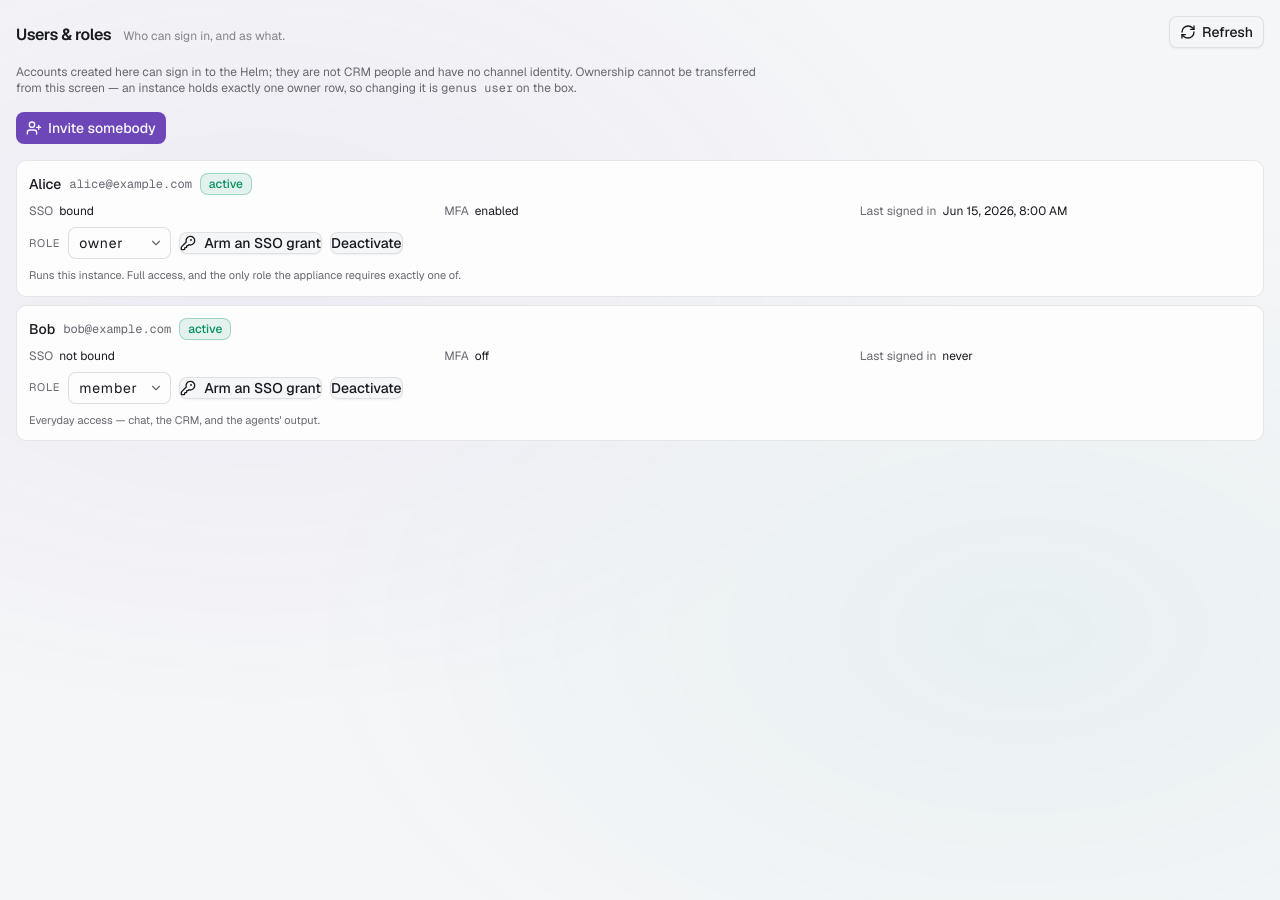
Test: UsersPage › does not default to SSO on an instance without an identity provider
Step 1. Click the button with test id "users-invite-open" → {"x": 91, "y": 128}, box [16, 112, 166, 144]
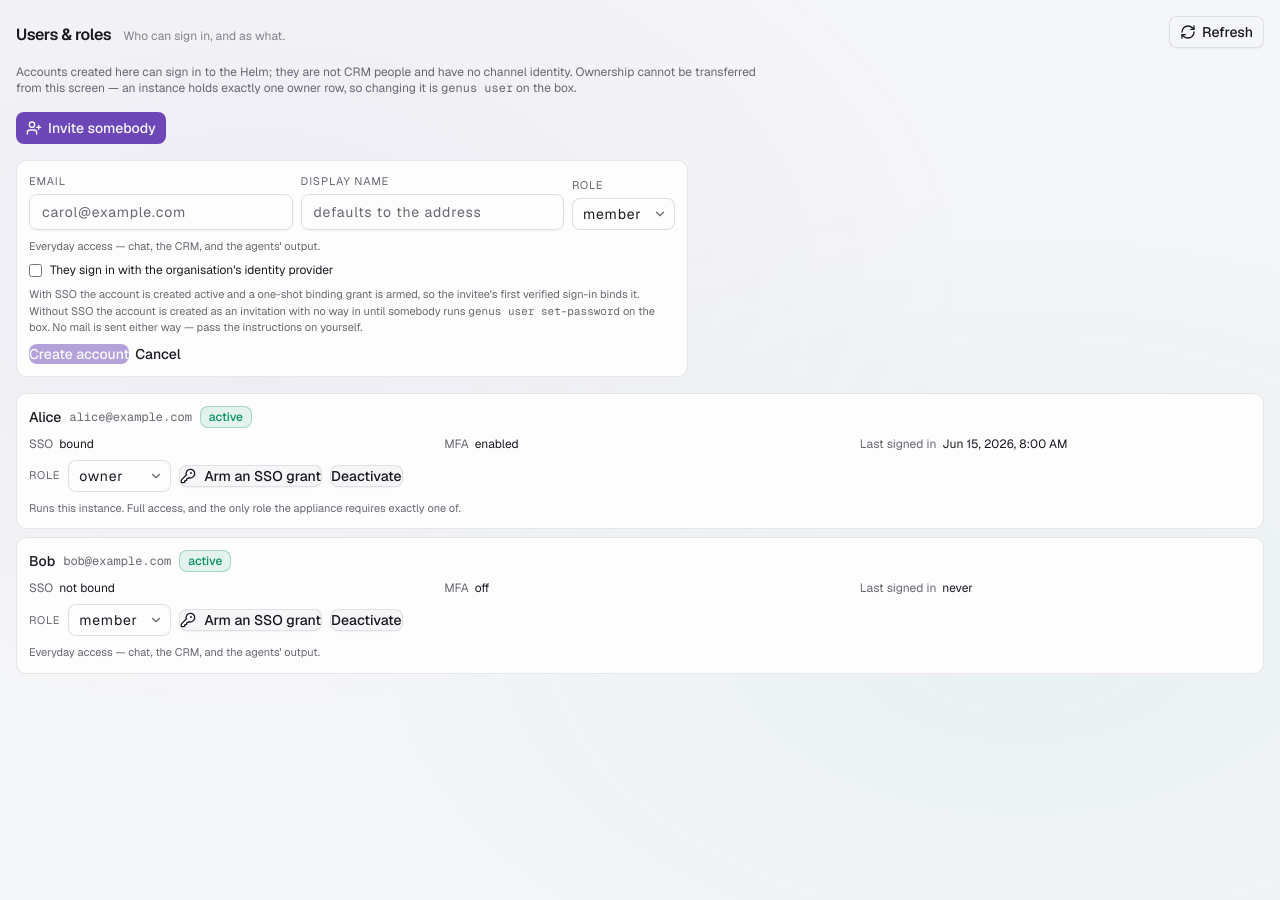
expect the checkbox with test id "invite-sso" is not checked: met, box [29, 264, 42, 276]
